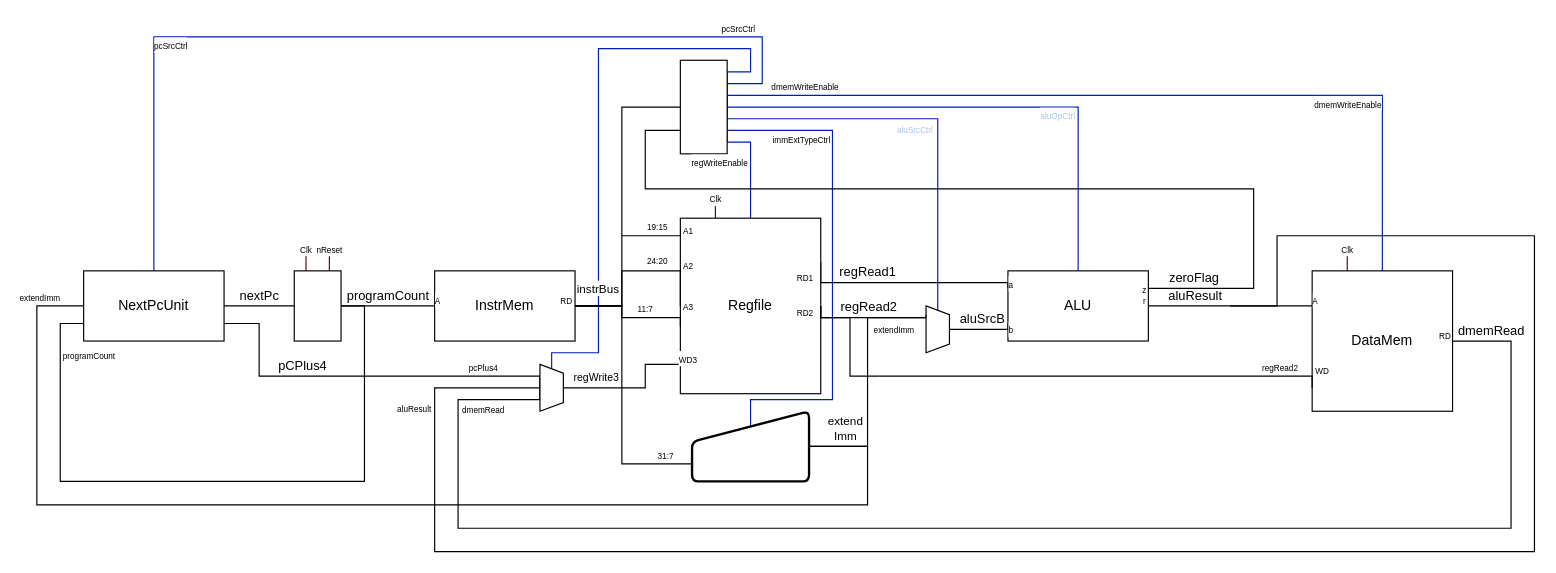
The diagram is 1556 pixels wide and 573 high, and some of its shapes have lost their labels. The centre of each missing label's shape, as x and y in pixels:
"CU" goes at (703,106).
"ExtendRv32I" goes at (750,446).
"PC" goes at (317,305).
